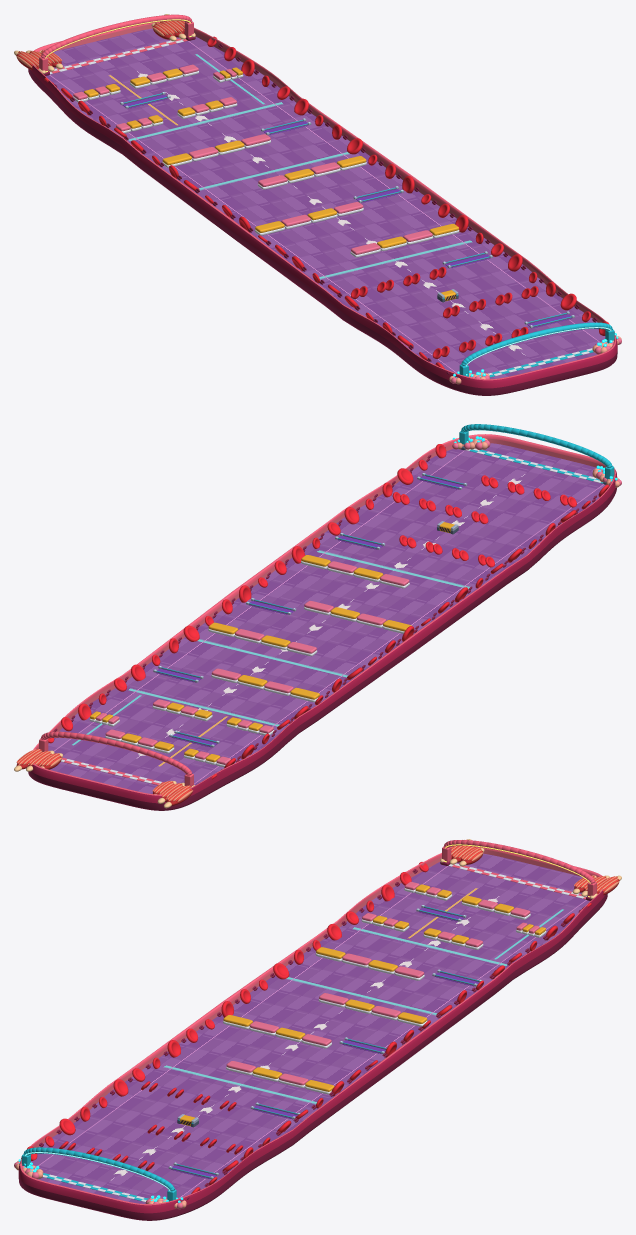
Rendered from race.glb.
3 views of the same model, one above another, from view 1: azimuth 30°, elevation 25°; view 2: azimuth 150°, elevation 25°; view 3: azimuth 330°, elevation 25° (orthographic).
Parts seen in each view (by area): view 1: Piso pintado, ruby, wine, vessel, rim, hotpink, white, banana, cyan, salmon, purple, plate (+2 smaller); view 2: Piso pintado, ruby, wine, rim, vessel, hotpink, white, banana, cyan, salmon, purple, coral (+2 smaller); view 3: Piso pintado, wine, ruby, vessel, rim, hotpink, white, banana, cyan, salmon, purple, plate (+2 smaller).
Boxes of the visible parts, x1=… form: Piso pintado: x1=46, y1=28, x2=605, y2=378; ruby: x1=44, y1=36, x2=608, y2=368; wine: x1=28, y1=36, x2=617, y2=395; vessel: x1=31, y1=64, x2=617, y2=388; rim: x1=30, y1=14, x2=616, y2=380; hotpink: x1=73, y1=64, x2=621, y2=383; white: x1=50, y1=39, x2=592, y2=375; banana: x1=84, y1=67, x2=458, y2=248; cyan: x1=124, y1=93, x2=614, y2=377; salmon: x1=45, y1=24, x2=601, y2=322; purple: x1=123, y1=94, x2=572, y2=327; plate: x1=124, y1=94, x2=571, y2=327; Piso pintado: x1=48, y1=443, x2=605, y2=793; ruby: x1=48, y1=444, x2=609, y2=779; wine: x1=28, y1=447, x2=616, y2=810; rim: x1=30, y1=434, x2=615, y2=795; vessel: x1=31, y1=470, x2=617, y2=803; hotpink: x1=96, y1=439, x2=621, y2=764; white: x1=61, y1=448, x2=600, y2=784; banana: x1=90, y1=555, x2=411, y2=762; cyan: x1=156, y1=424, x2=614, y2=745; salmon: x1=38, y1=438, x2=605, y2=748; purple: x1=156, y1=475, x2=464, y2=747; coral: x1=16, y1=749, x2=193, y2=801; Piso pintado: x1=31, y1=853, x2=589, y2=1203; wine: x1=18, y1=861, x2=607, y2=1220; ruby: x1=27, y1=862, x2=591, y2=1193; vessel: x1=18, y1=890, x2=604, y2=1213; rim: x1=20, y1=840, x2=605, y2=1205; hotpink: x1=14, y1=882, x2=539, y2=1209; white: x1=43, y1=863, x2=586, y2=1202; banana: x1=223, y1=884, x2=545, y2=1091; cyan: x1=21, y1=906, x2=478, y2=1201; salmon: x1=34, y1=849, x2=590, y2=1147; purple: x1=171, y1=907, x2=479, y2=1178; plate: x1=171, y1=907, x2=478, y2=1178.
Bounding box in the file's own units: 30.26 × 6.32 × 130.
Materials: 47 (1 with a texture image).
